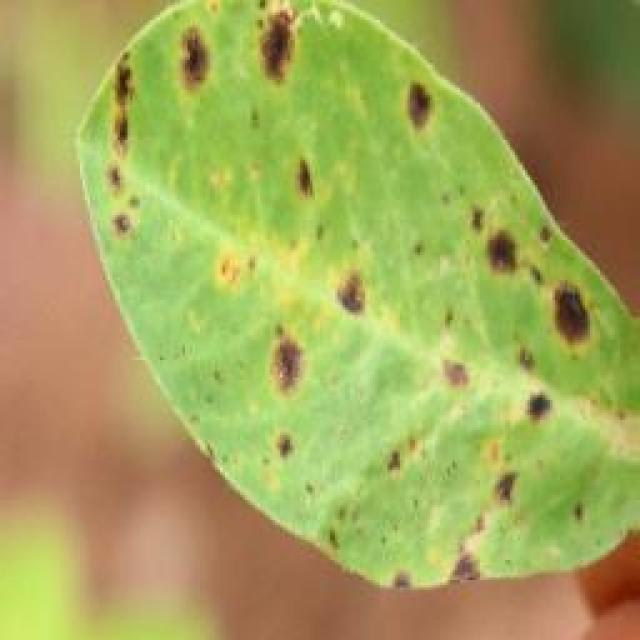Yellowish: (74, 5, 601, 574)
